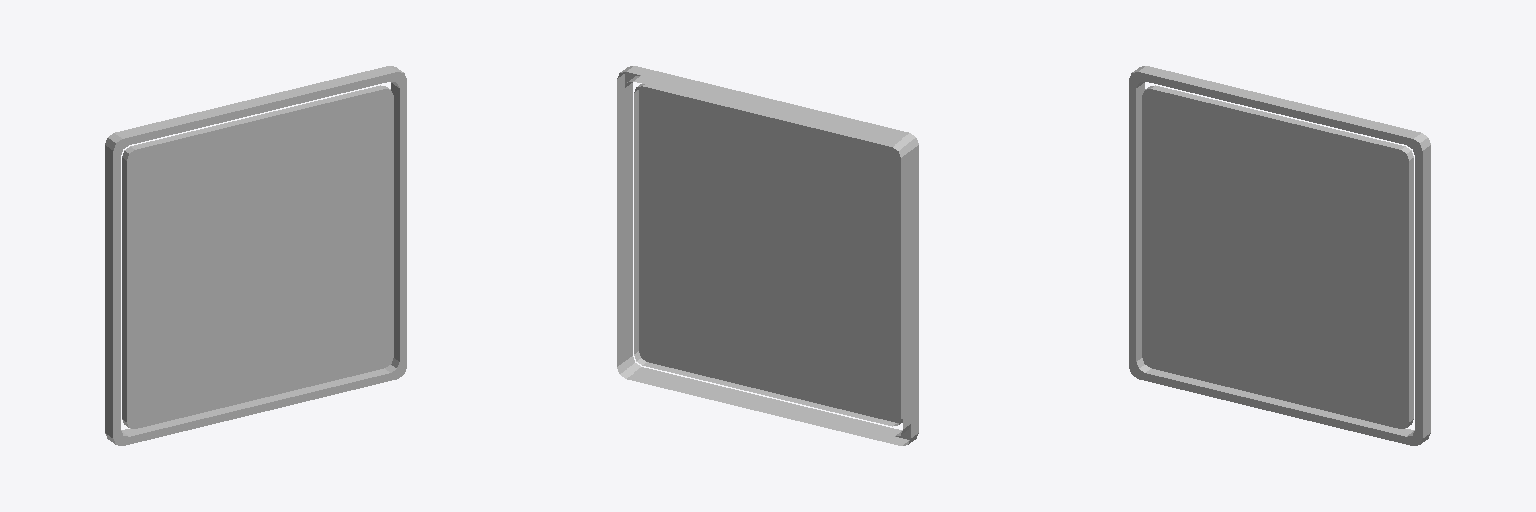
The model's file is Manhole.obj.
3 views of the same model, side by side, from view 1: azimuth 30°, elevation 25°; view 2: azimuth 150°, elevation 25°; view 3: azimuth 330°, elevation 25° (orthographic).
Parts seen in each view (by area): view 1: Manhole_Cubical; view 2: Manhole_Cubical; view 3: Manhole_Cubical.
Part boxes in pixels (left/top/right/bottom): Manhole_Cubical: left=105, top=66, right=406, bottom=445; Manhole_Cubical: left=617, top=66, right=918, bottom=445; Manhole_Cubical: left=1129, top=66, right=1430, bottom=445.
Bounding box in the file's own units: 0.6096 × 0.6096 × 0.0305.